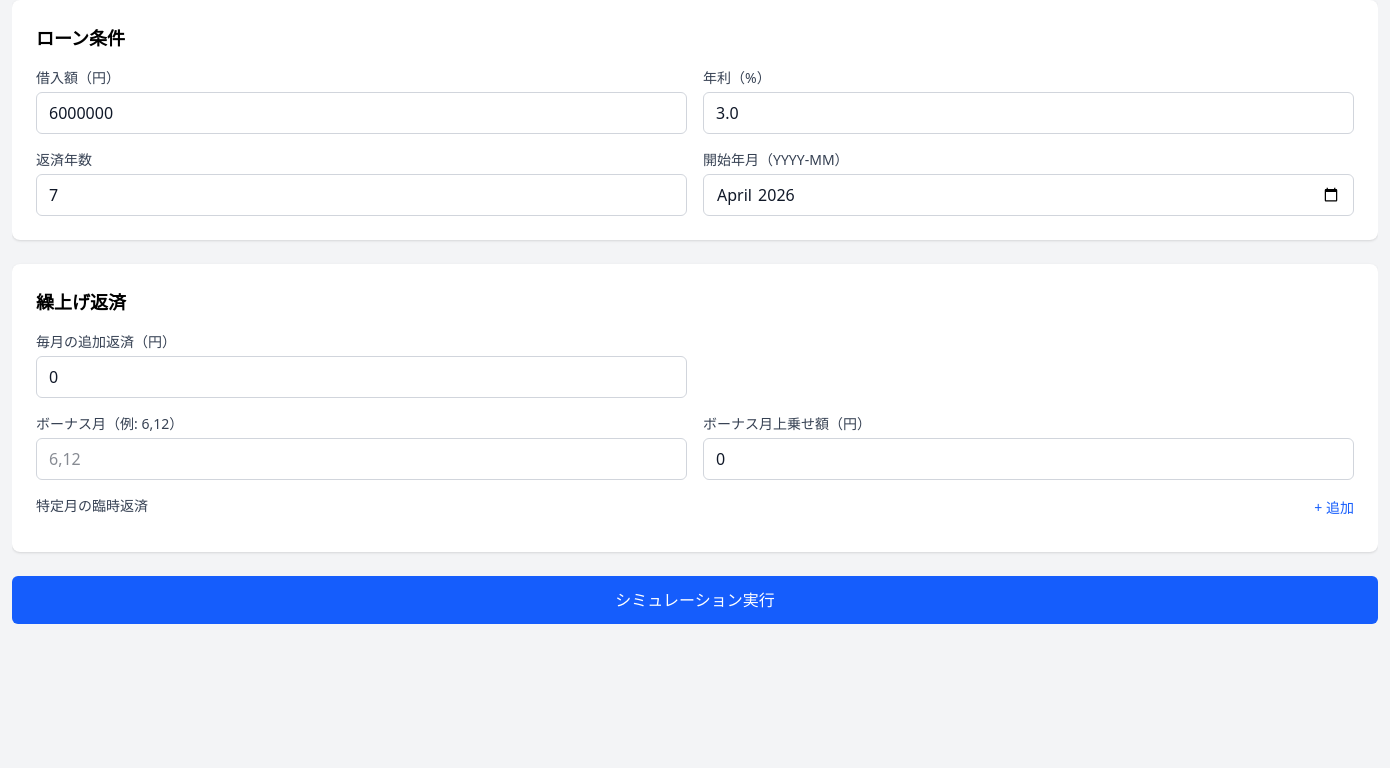
Test case: LoanForm › バリデーション › 借入額が無効な場合エラーが表示される
The image size is (1390, 768).
Replace the text in the number field labelled "借入額（円）" with "-100" at [362, 113], box [36,92,687,134]
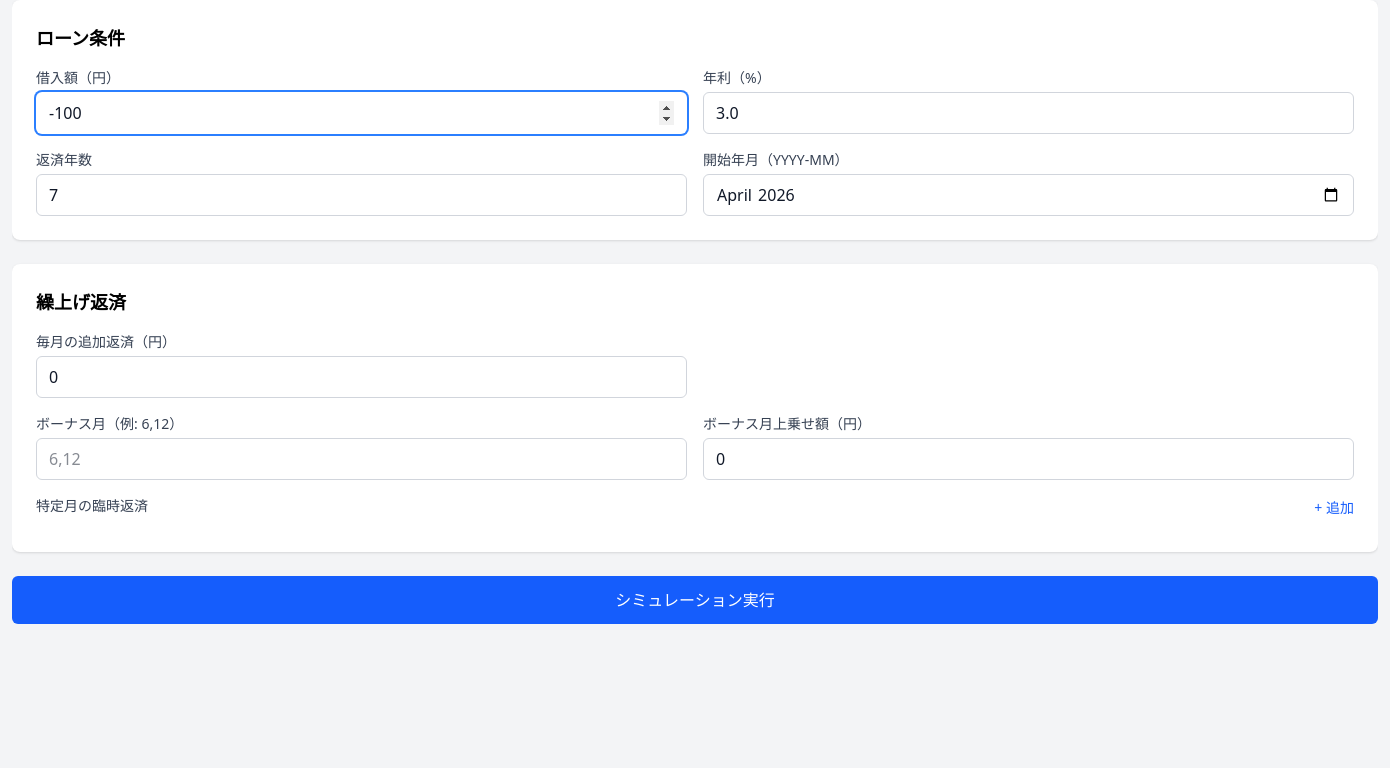
Click the button "シミュレーション実行" at [695, 600], box [12,576,1378,624]
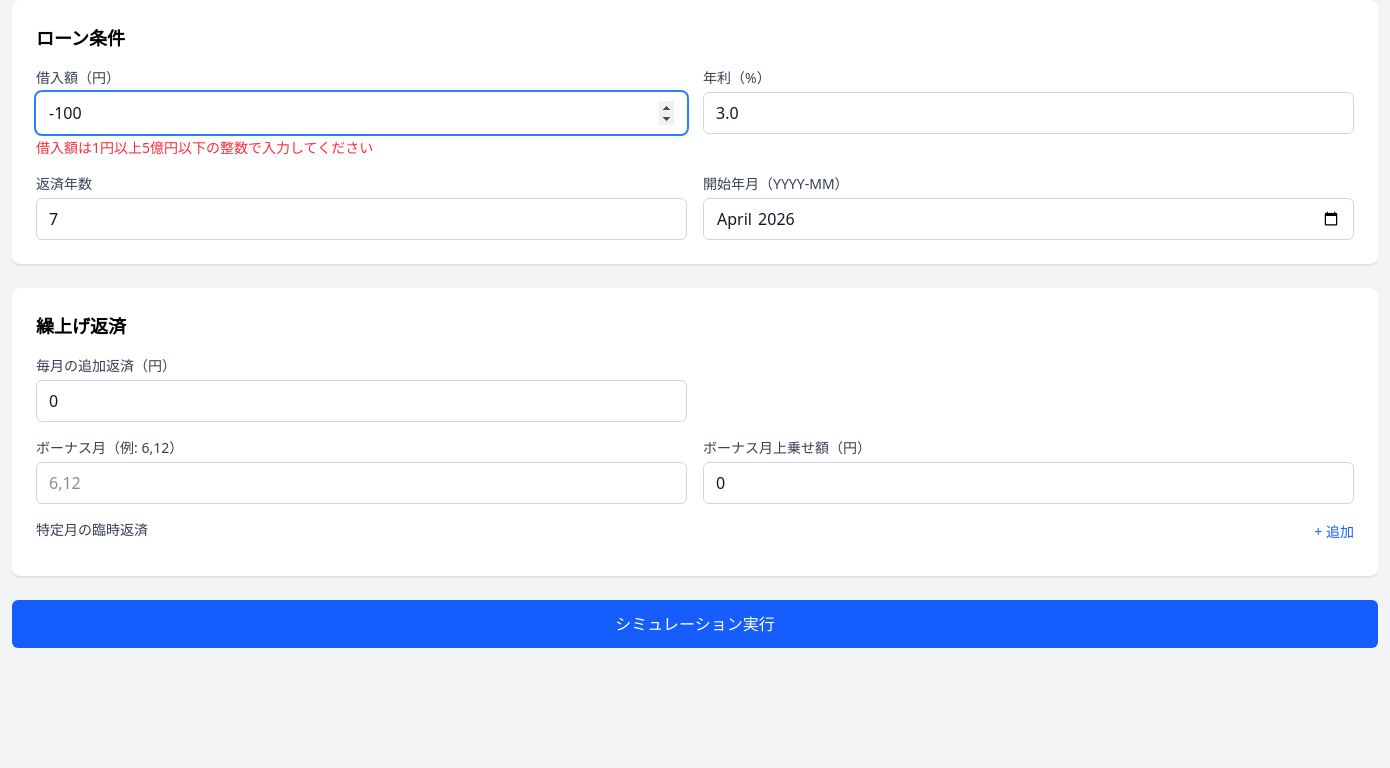
Check: the text "借入額は1円以上5億円以下の整数で入力してください" is shown, box [36,138,373,157]
